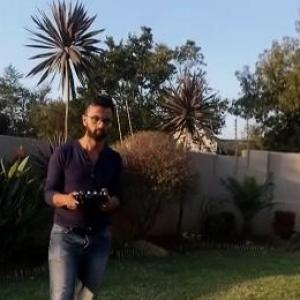follow: (36, 85, 126, 299)
